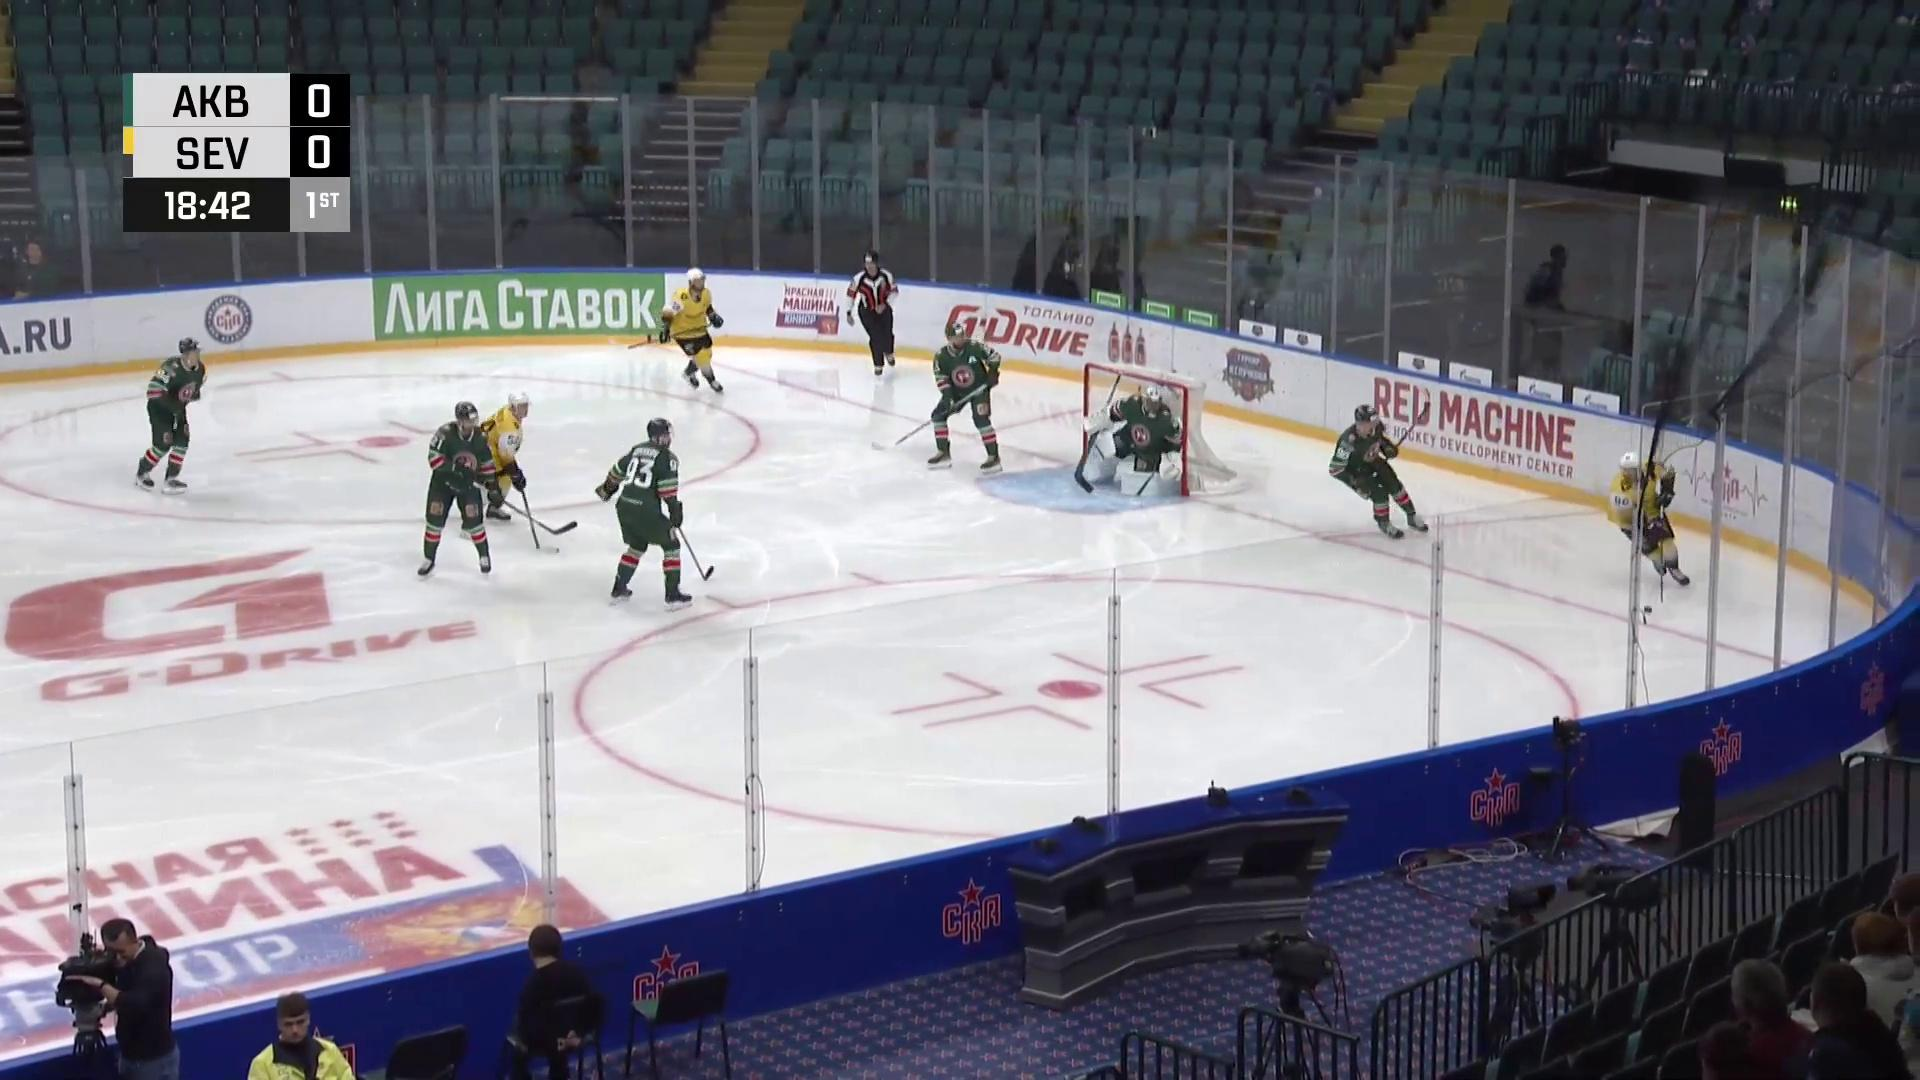ball: (1642, 603, 1655, 616)
